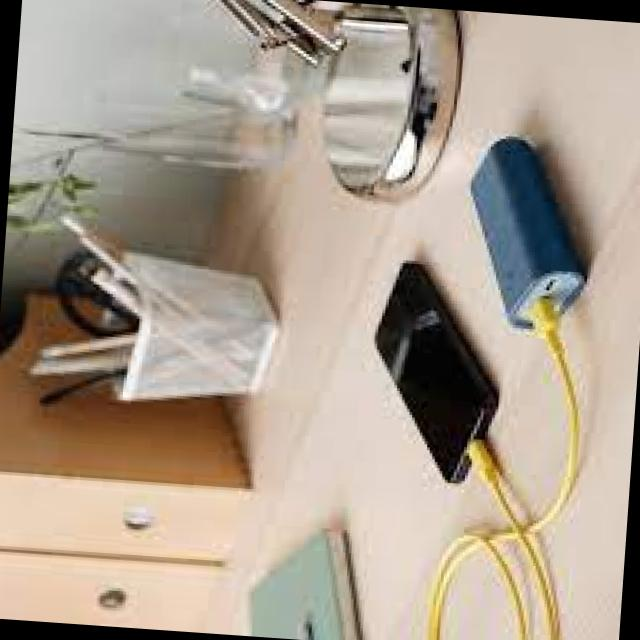power_bank: (452, 119, 613, 343)
